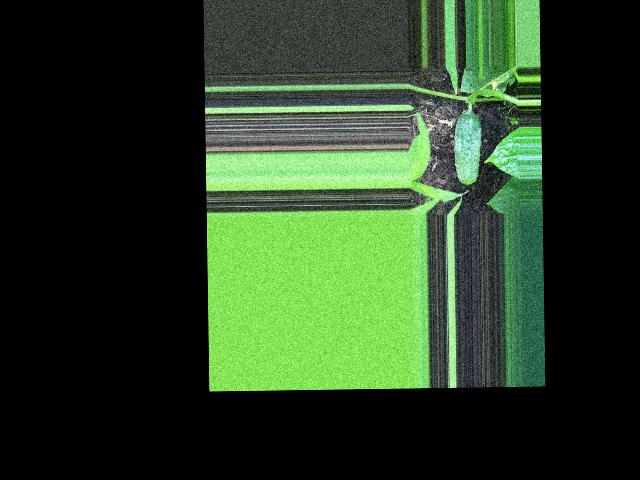cucumber: (453, 111, 481, 186)
